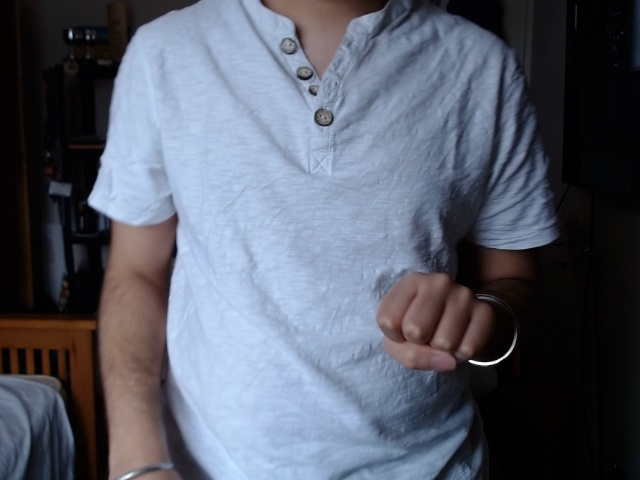Yes: (375, 261, 498, 374)
